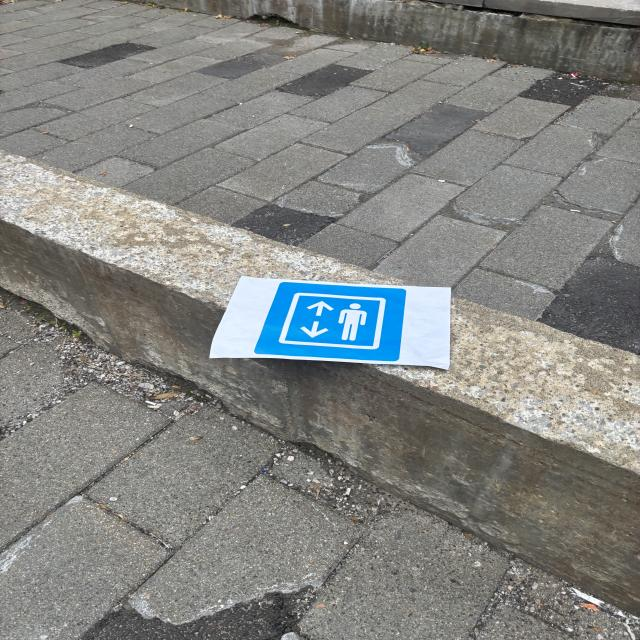elevator: (254, 282, 406, 362)
